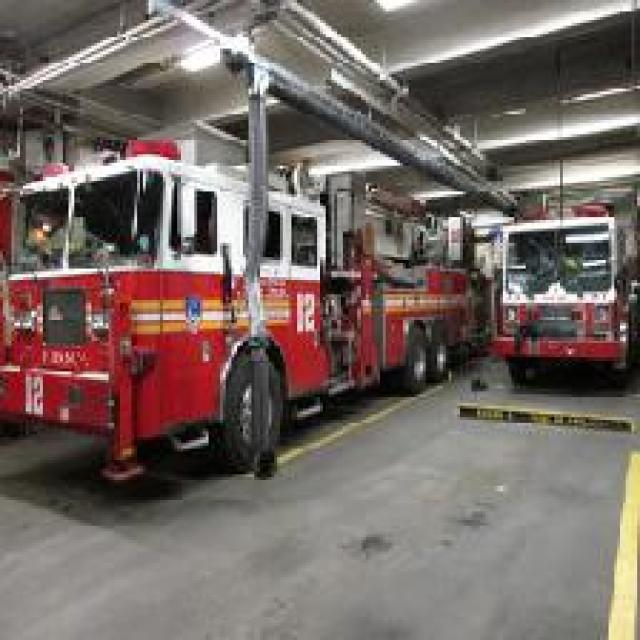emergency: (0, 144, 488, 488), (484, 206, 636, 390)
